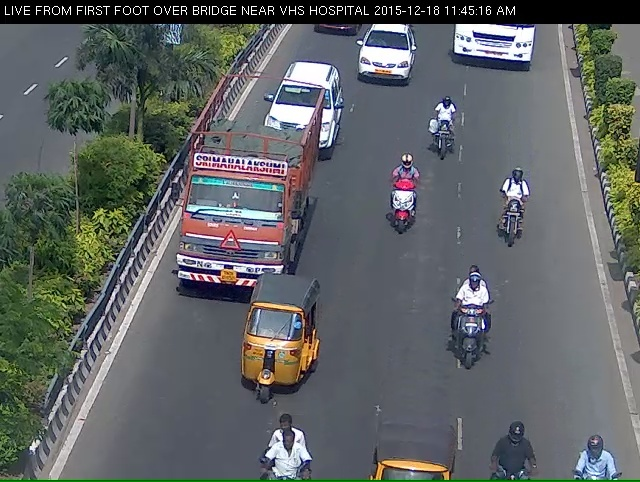Auto: (230, 298, 313, 427)
Bus: (173, 75, 321, 322), (444, 22, 544, 78)
Car: (263, 63, 341, 164), (353, 29, 415, 95)
Person: (451, 282, 495, 390), (492, 174, 534, 253), (382, 168, 419, 244), (424, 95, 461, 164)
